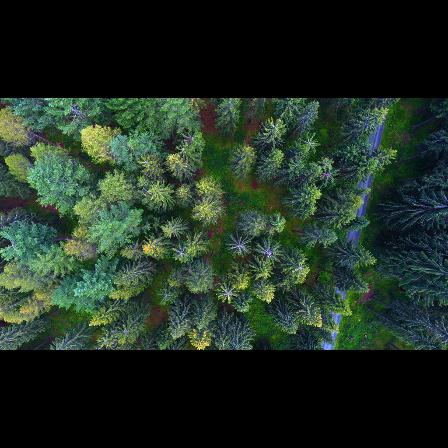Sick: (254, 237, 283, 267), (224, 230, 252, 259), (215, 278, 240, 305), (295, 128, 320, 154), (169, 241, 191, 262), (319, 164, 338, 187), (155, 286, 176, 306)
